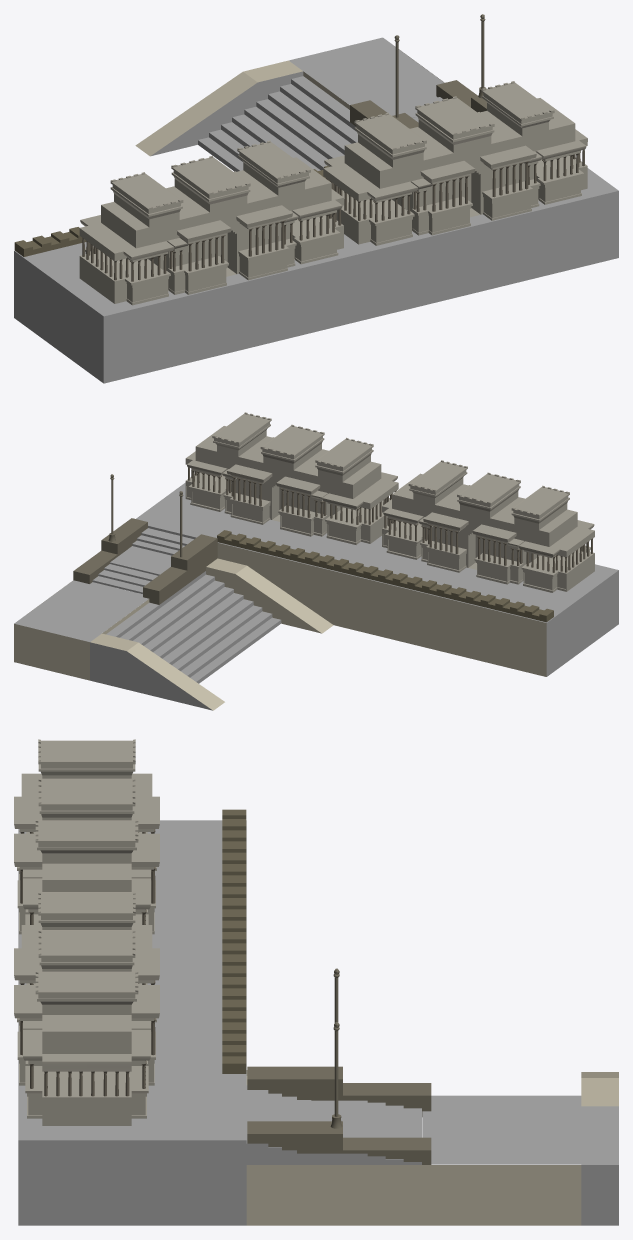
The model's file is building2_9.fbx.
The picture shows the model from 3 angles, top to bottom: view 1: azimuth 30°, elevation 25°; view 2: azimuth 150°, elevation 25°; view 3: azimuth 270°, elevation 25°; orthographic projection. The views are drawn at different scales.
Visible parts, largest first — view 1: polySurface9696, pPlane4; view 2: polySurface9696, pPlane4; view 3: polySurface9696, pPlane4.
Boxes of the visible parts, box(x1,y1,x2,y2) form: polySurface9696: box(14, 14, 618, 383); pPlane4: box(302, 47, 444, 122); polySurface9696: box(14, 412, 618, 710); pPlane4: box(25, 549, 170, 634); polySurface9696: box(14, 739, 618, 1225); pPlane4: box(311, 1100, 584, 1164).
Bounding box in the file's own units: 165 × 47.88 × 132.
